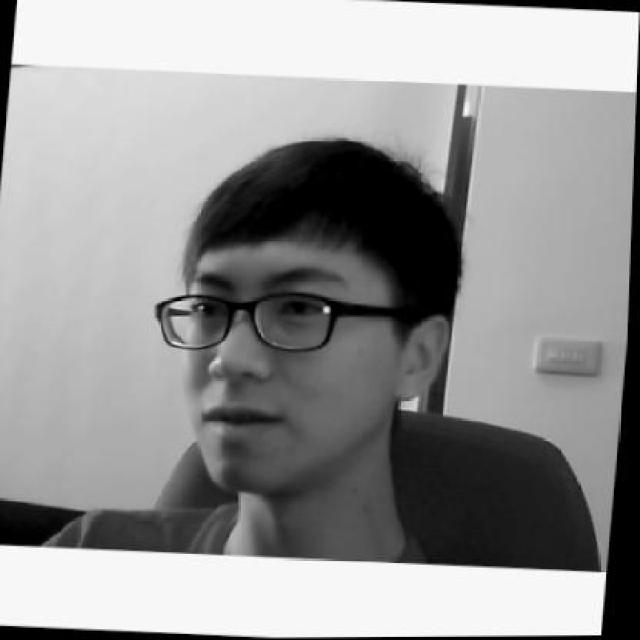attentif: (141, 127, 468, 504)
